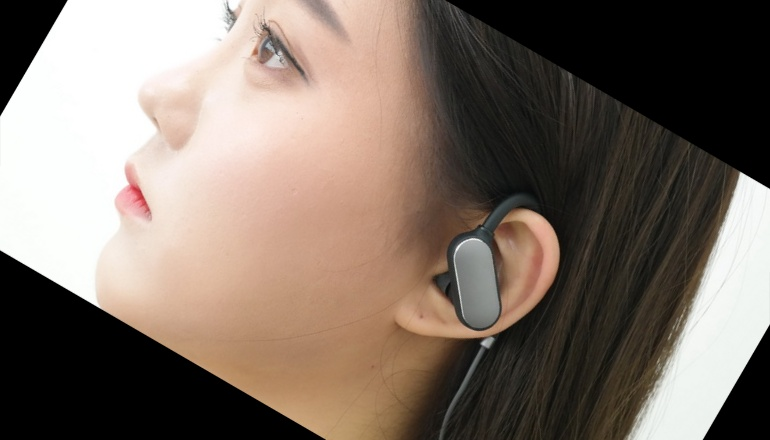earphone: (390, 176, 580, 383)
